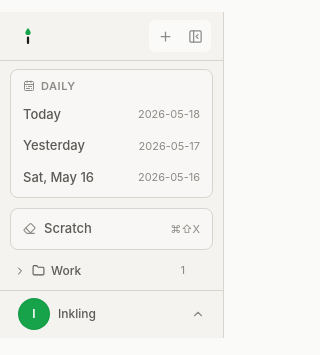
Sidebar › shows folder actions when right-clicking a folder
Right-click the text "Work" at coordinates (66, 270), box [51,262,81,280]
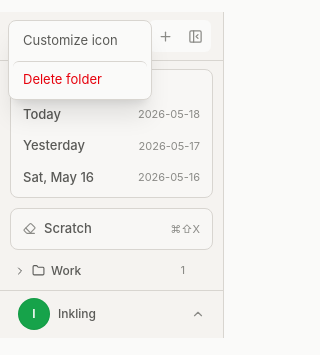
Expected: the menu item "Customize icon" is shown, [23,32,118,48]
Expected: the menu item "Delete folder" is shown, [13,60,147,95]
